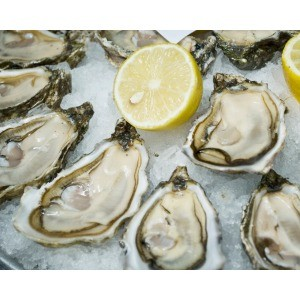oyster_brain food: (5, 85, 105, 243), (186, 88, 280, 166), (134, 184, 209, 274), (240, 184, 295, 262)
